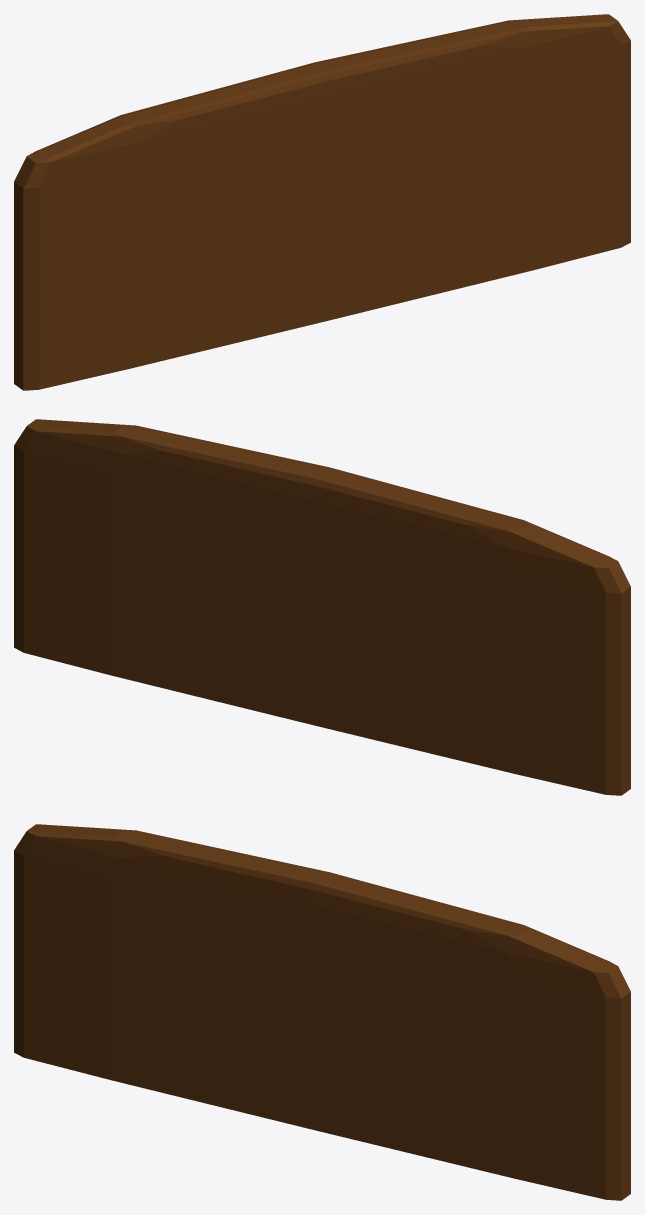
Rendered from Low Poly Wall.fbx.
3 views of the same model, one above another, from view 1: azimuth 30°, elevation 25°; view 2: azimuth 150°, elevation 25°; view 3: azimuth 330°, elevation 25° (orthographic).
Parts seen in each view (by area): view 1: Wall; view 2: Wall; view 3: Wall.
Boxes of the visible parts, x1=… form: Wall: x1=14, y1=14, x2=630, y2=390; Wall: x1=14, y1=419, x2=630, y2=795; Wall: x1=14, y1=824, x2=630, y2=1200.
Size of the model in its own units: 822 by 318 by 43.63.
